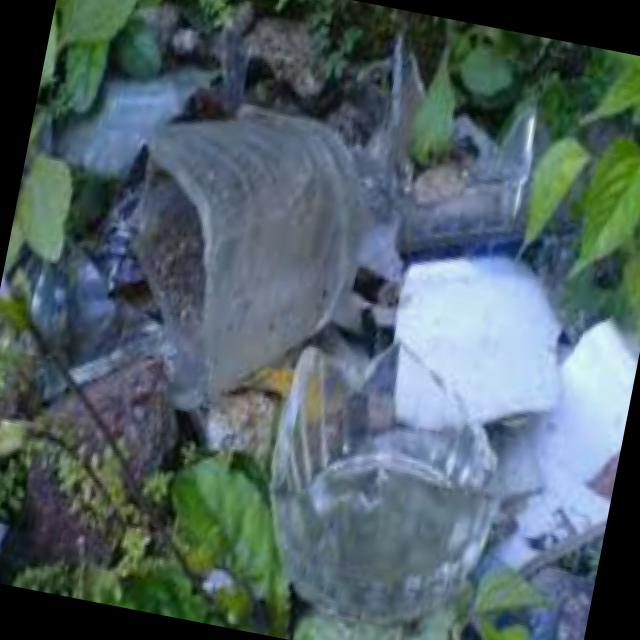PecahanKaca: (83, 75, 390, 428), (241, 331, 525, 640)
